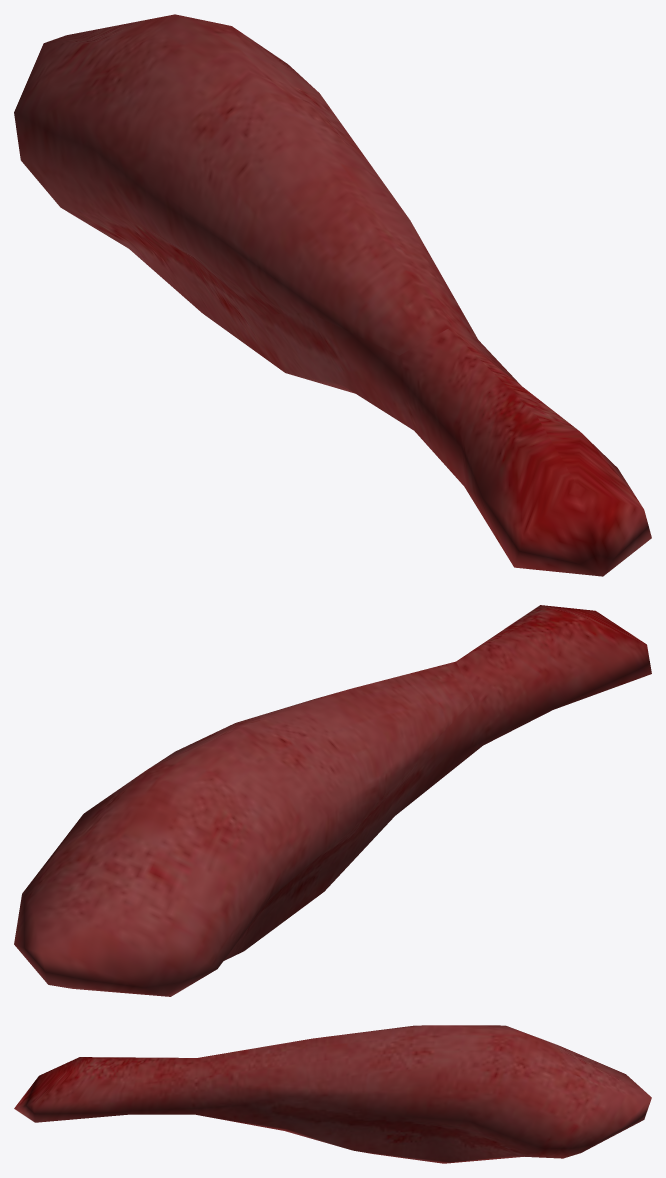
The model's file is Tongue.glb.
The picture shows the model from 3 angles, top to bottom: view 1: azimuth 30°, elevation 25°; view 2: azimuth 150°, elevation 25°; view 3: azimuth 270°, elevation 25°; orthographic projection. The views are drawn at different scales.
Parts seen in each view (by area): view 1: tongue.003; view 2: tongue.003; view 3: tongue.003.
Part boxes in pixels (<box>): tongue.003: <box>14,14,651,576</box>; tongue.003: <box>14,605,651,996</box>; tongue.003: <box>14,1025,651,1163</box>.
Size of the model in its own units: 0.0937 by 0.0963 by 0.4041.
Materials: 1 (1 with a texture image).
